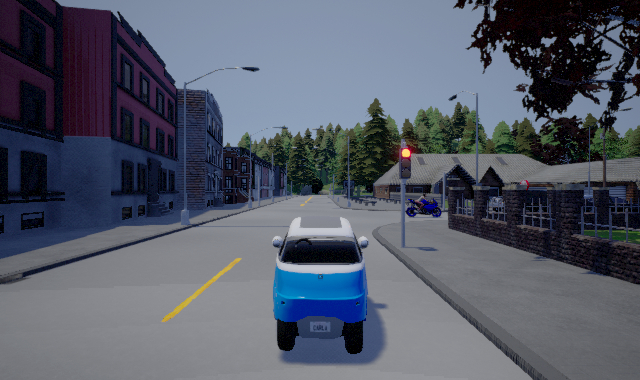motobike: (404, 192, 442, 217)
traffic_light: (398, 146, 412, 179)
vehicle: (272, 216, 369, 354)
